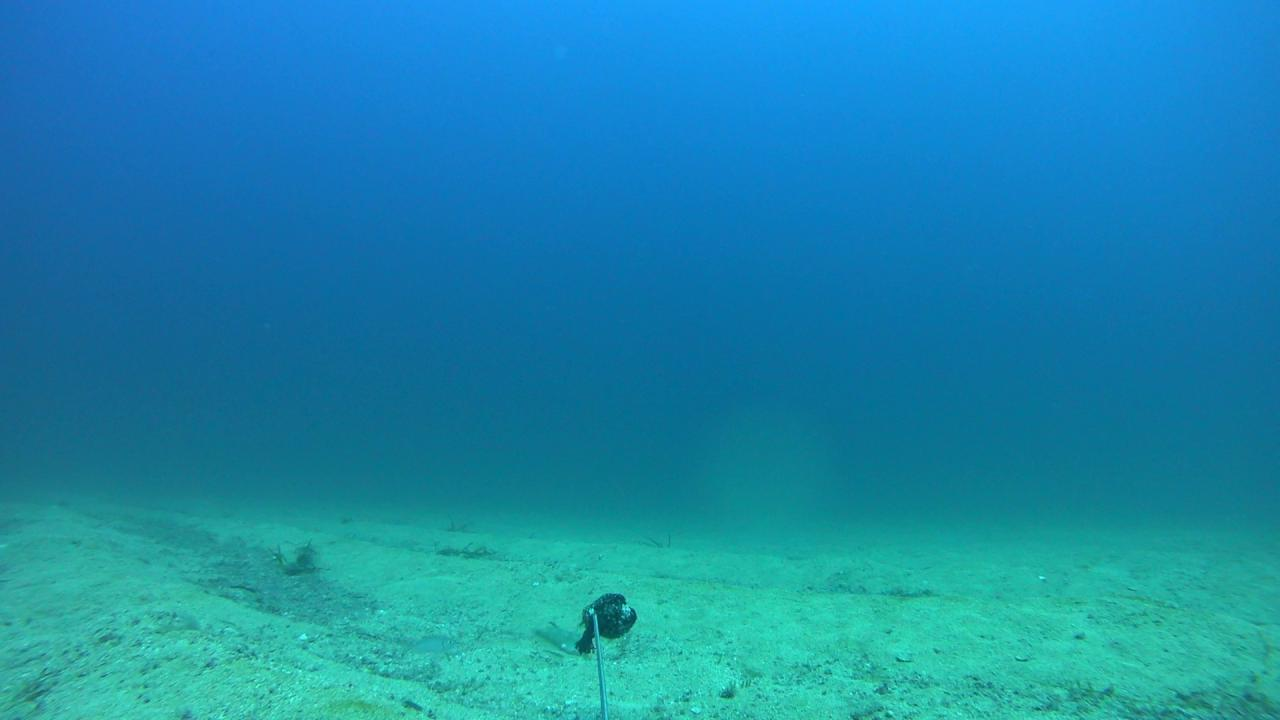pagellus: (399, 633, 457, 658)
